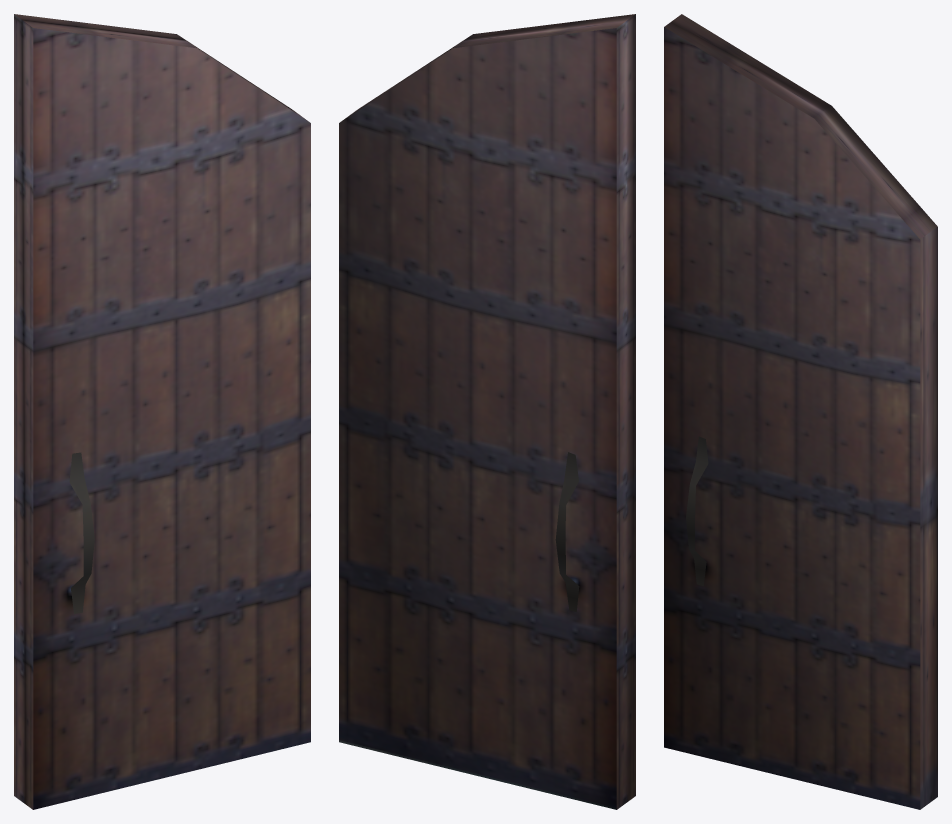
Rendered from DoorL2.glb.
3 renders of one model, left to right at view 1: azimuth 30°, elevation 25°; view 2: azimuth 150°, elevation 25°; view 3: azimuth 330°, elevation 25°, orthographic. The views are drawn at different scales.
Visible parts, largest first — view 1: DoorL2; view 2: DoorL2; view 3: DoorL2.
Boxes of the visible parts, <box> form: DoorL2: <box>14,14,310,809</box>; DoorL2: <box>339,14,635,809</box>; DoorL2: <box>664,14,937,809</box>.
Size of the model in its own units: 1.66 by 4.46 by 0.4858.
Materials: 2 (2 with a texture image).
